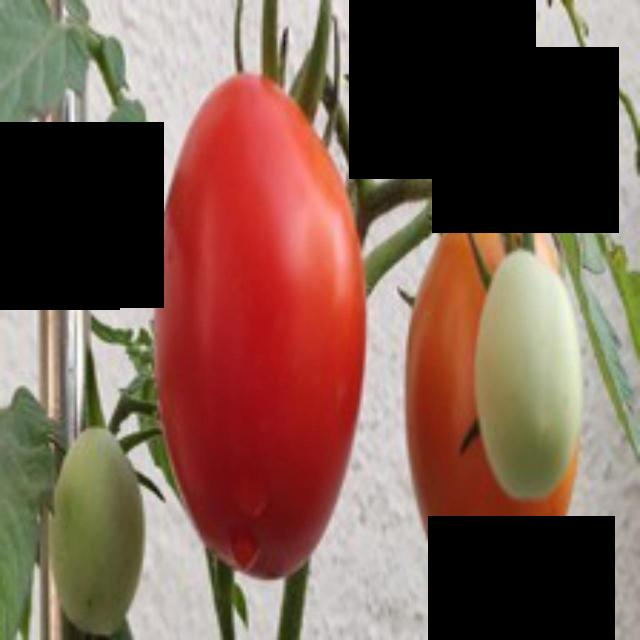tomato: (143, 64, 372, 585)
